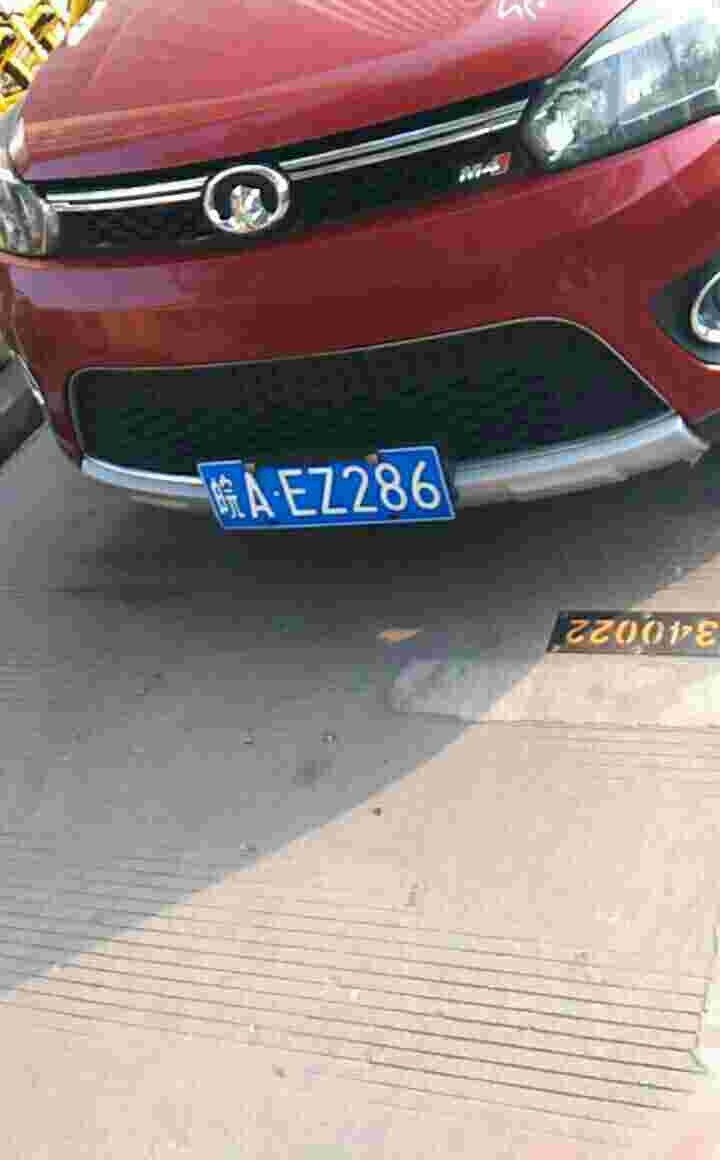license_plate: (208, 453, 447, 539)
